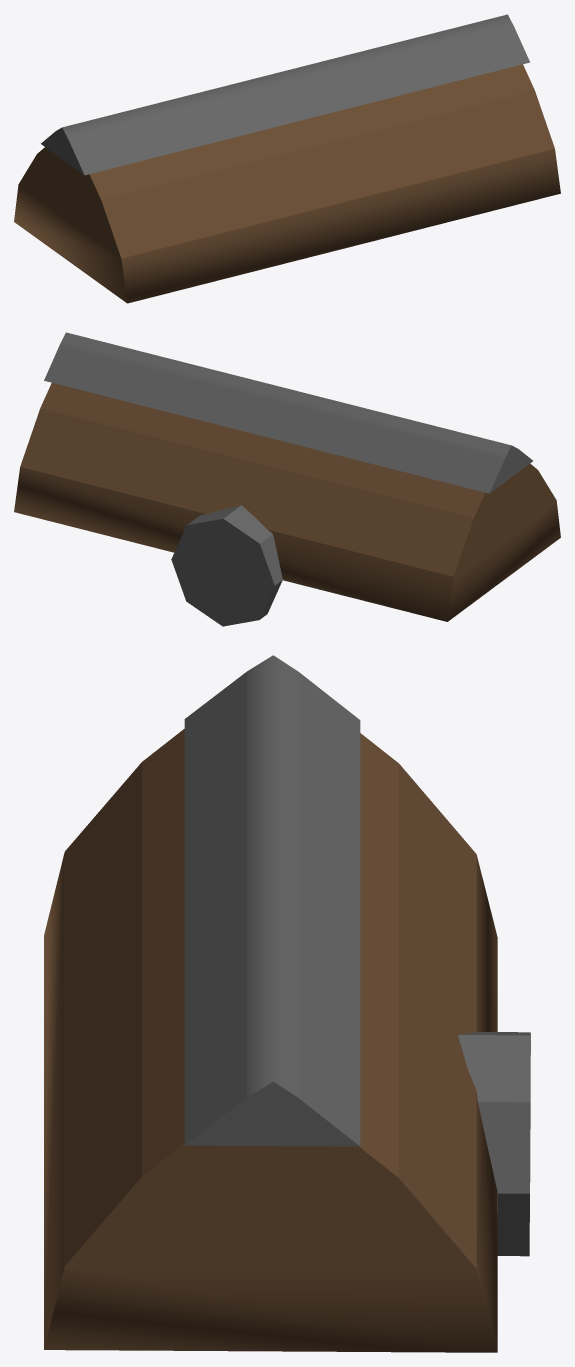
Rendered from Cofre  superior.fbx.
The picture shows the model from 3 angles, top to bottom: view 1: azimuth 30°, elevation 25°; view 2: azimuth 150°, elevation 25°; view 3: azimuth 270°, elevation 25°; orthographic projection. The views are drawn at different scales.
Parts seen in each view (by area): view 1: superior; view 2: superior; view 3: superior.
Part boxes in pixels (<box>): superior: <box>14,14,560,303</box>; superior: <box>14,332,560,626</box>; superior: <box>44,655,530,1352</box>.
Size of the model in its own units: 68.3 by 28.33 by 32.29.
